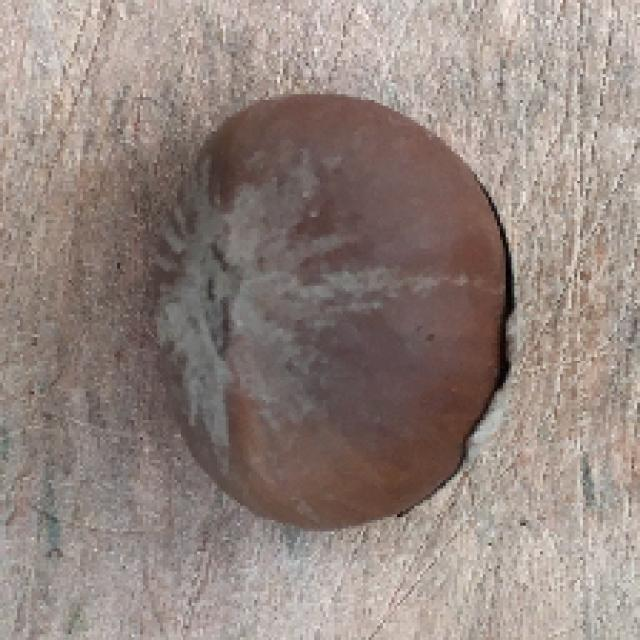damagedHazelnut: (145, 93, 525, 534)
